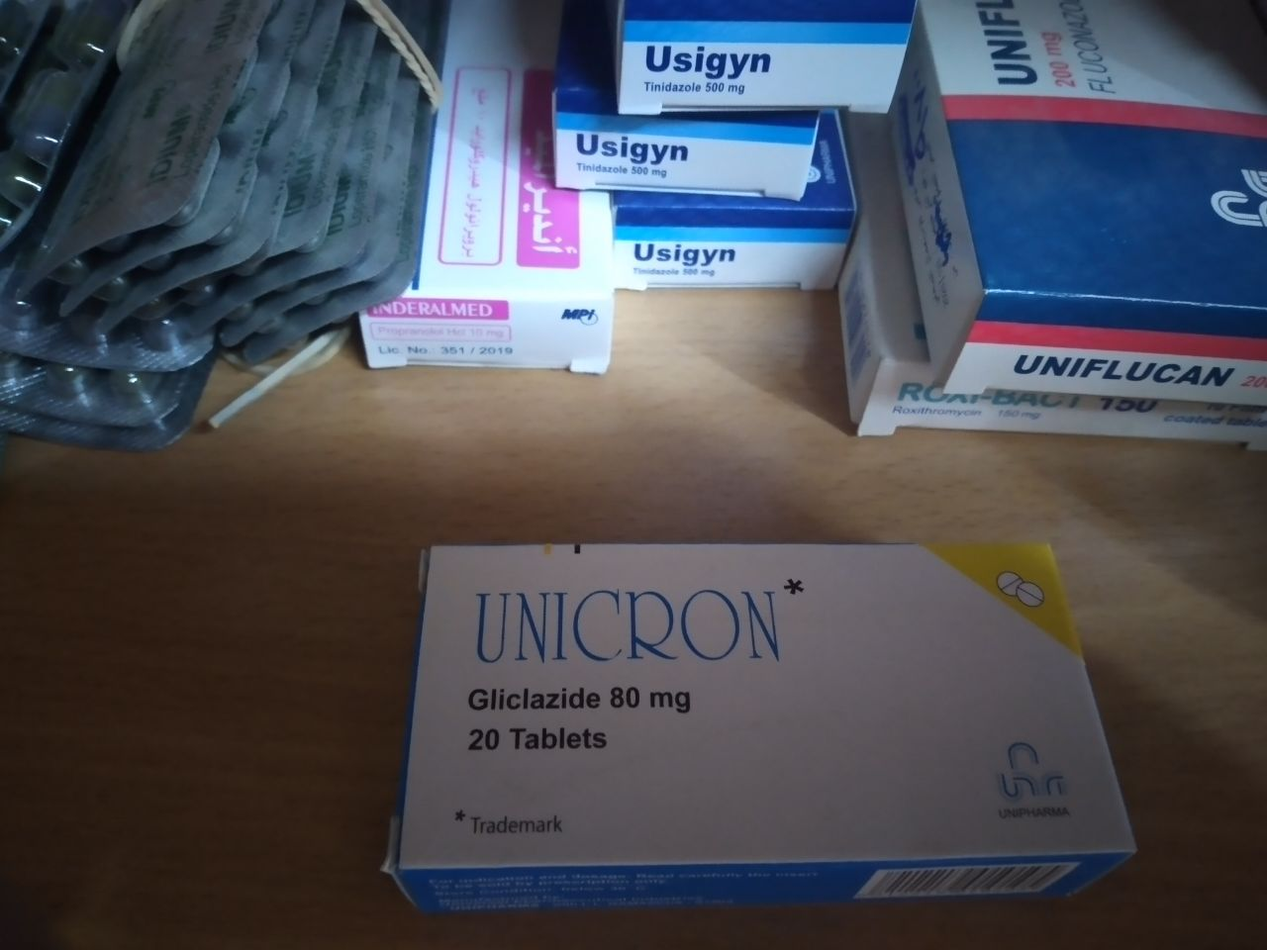Medicine: (369, 507, 1158, 940), (913, 7, 1267, 423), (339, 0, 611, 388), (532, 0, 829, 223), (596, 0, 926, 136), (601, 200, 866, 317)
